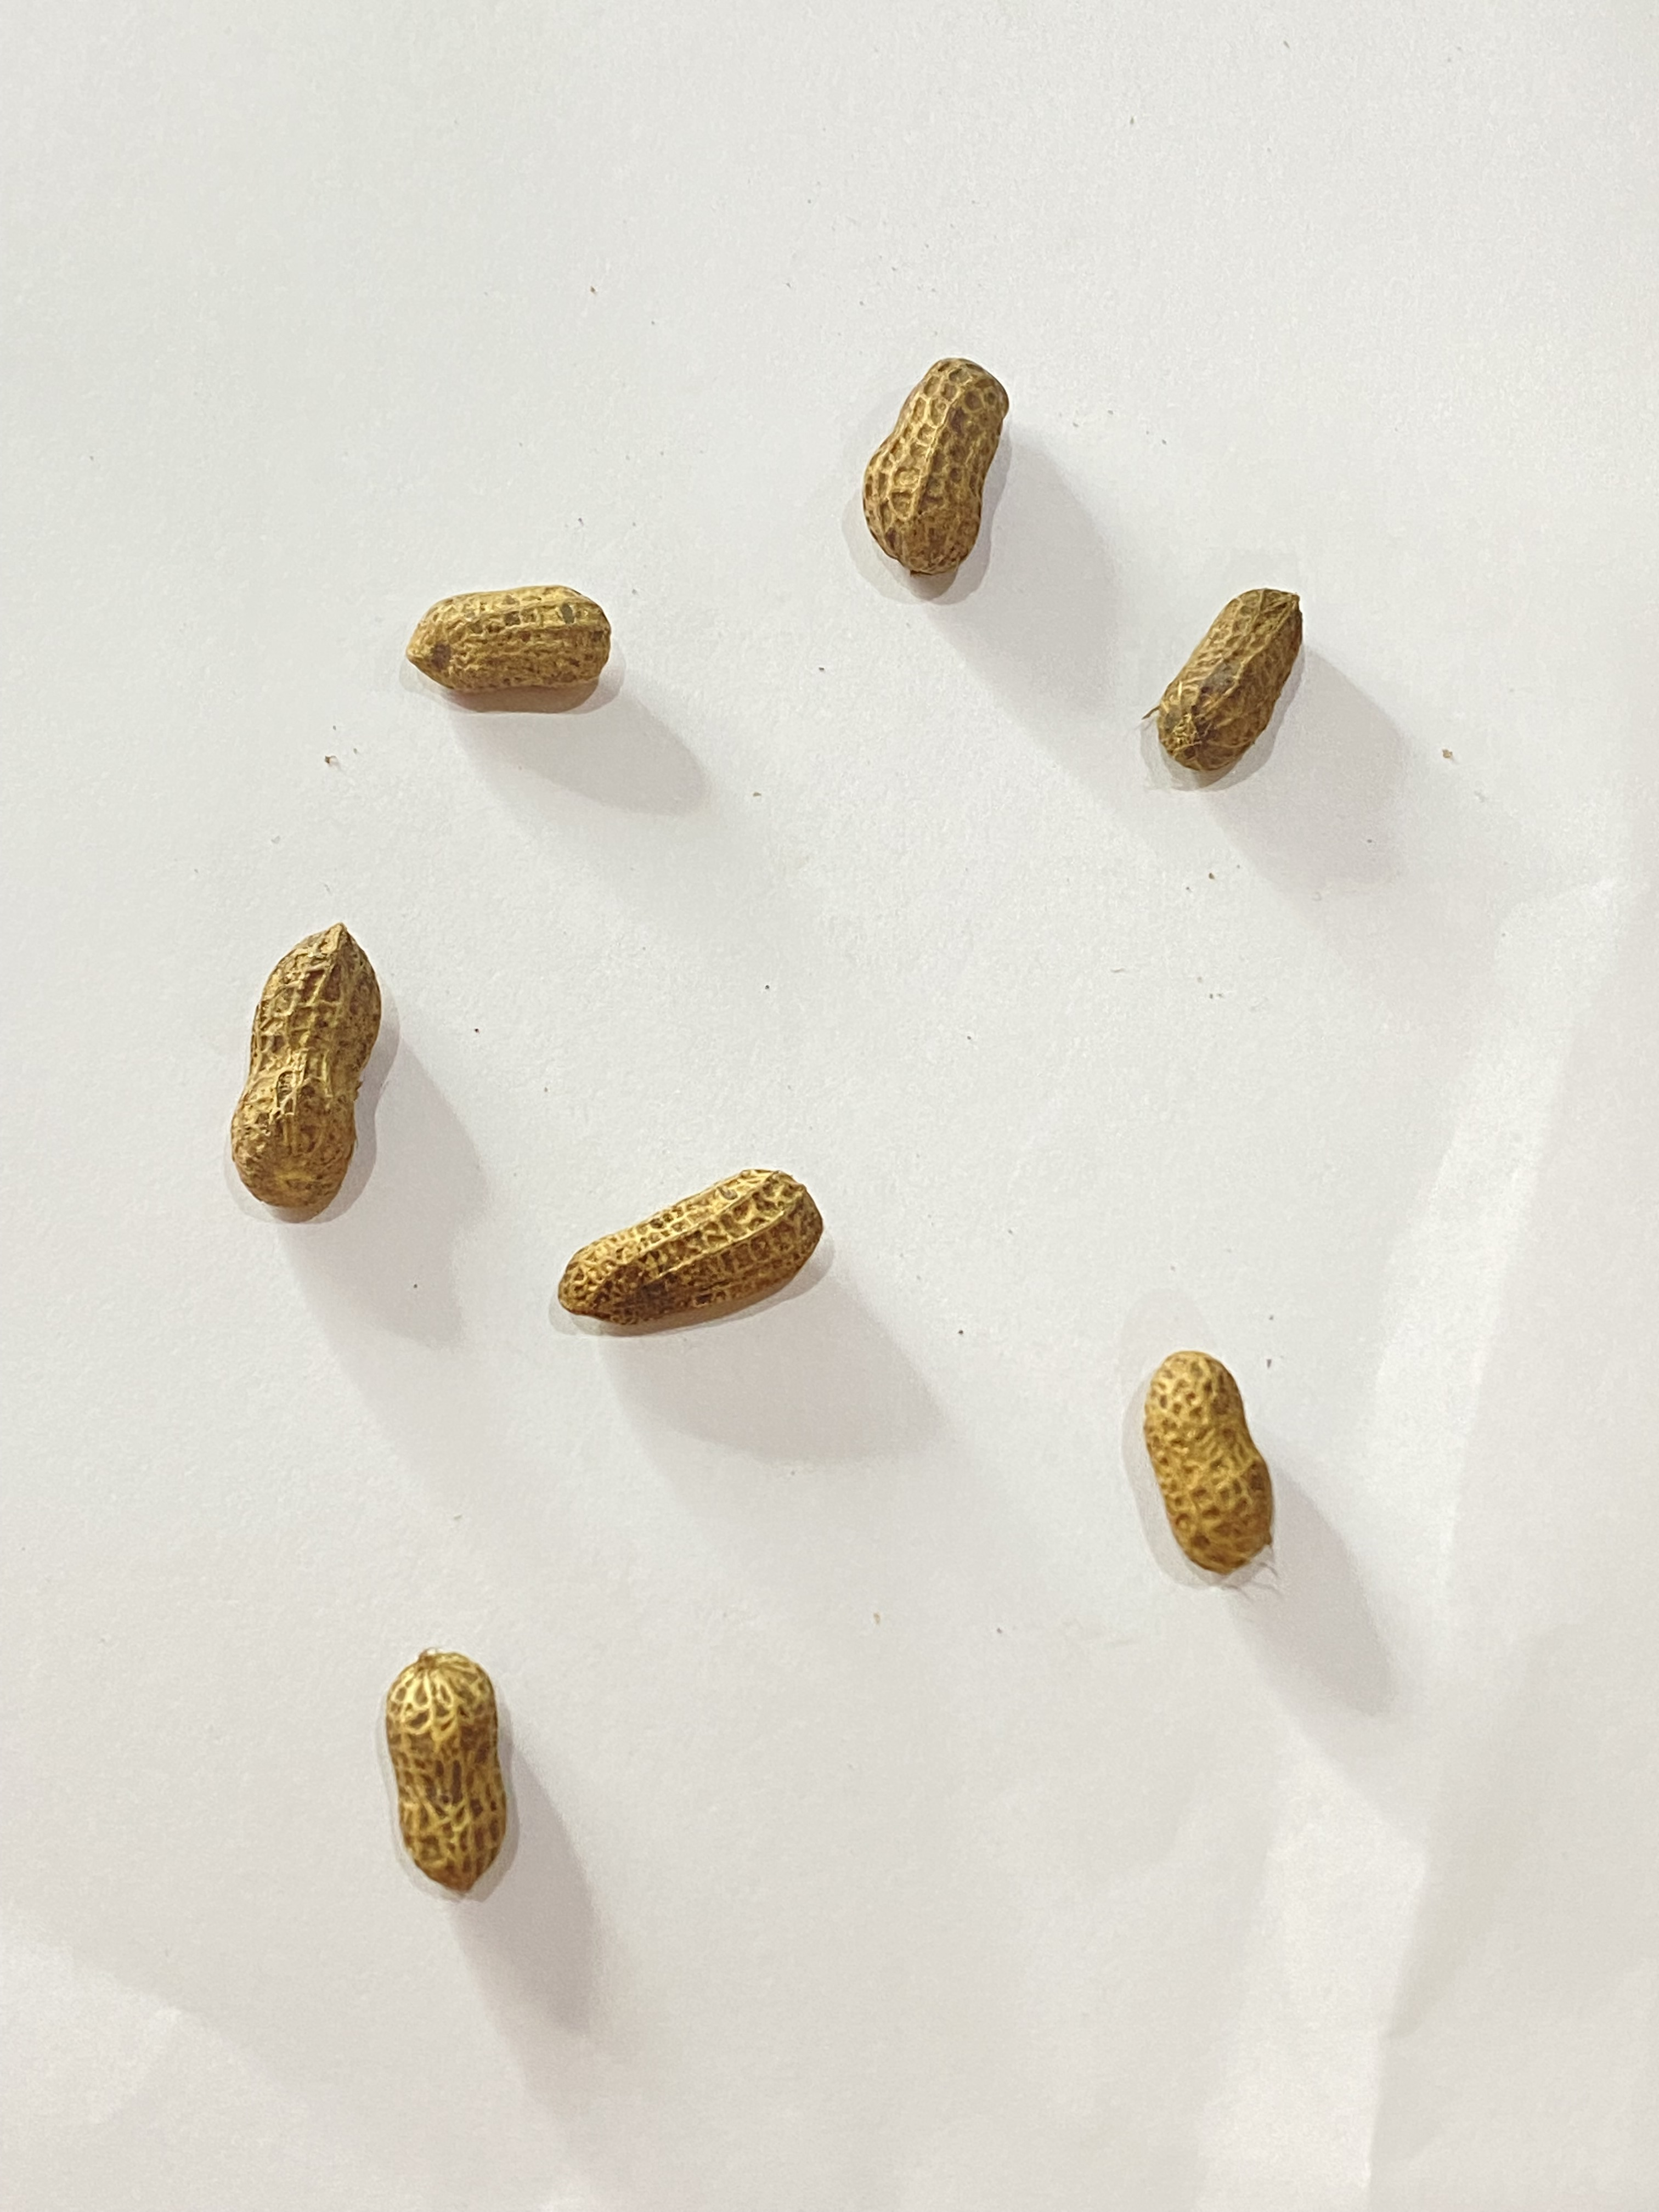kacang2: (193, 887, 420, 1230), (552, 1137, 864, 1367), (1065, 578, 1398, 777), (859, 253, 1016, 627), (371, 1648, 591, 1904), (1122, 1339, 1293, 1580), (364, 575, 653, 712)
